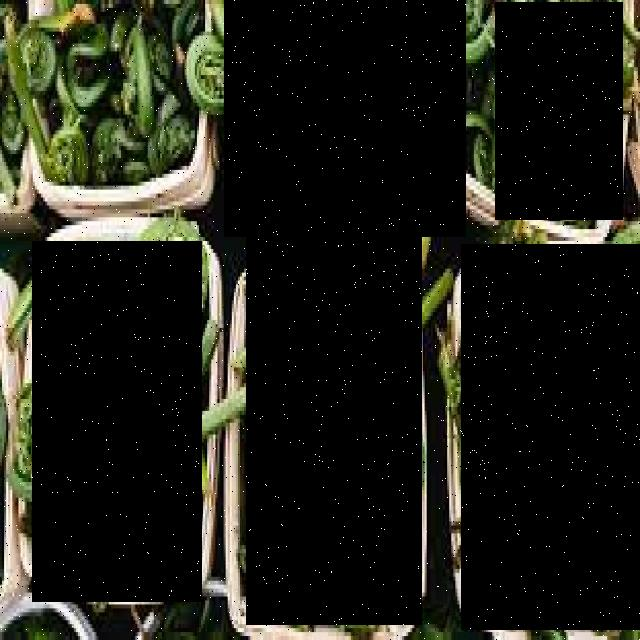Fiddlehead_Ferns: (246, 220, 422, 626), (461, 244, 640, 630), (32, 241, 202, 602), (224, 0, 466, 237), (495, 2, 623, 220), (49, 25, 197, 166)
